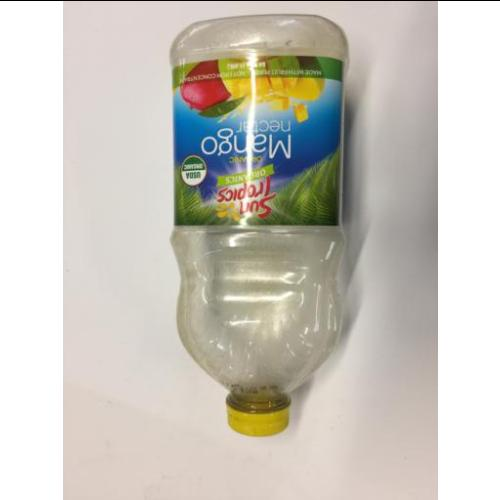plastic: (172, 17, 353, 435)
